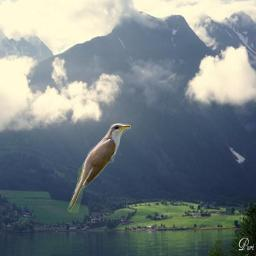Cuckoo: (66, 123, 131, 213)
